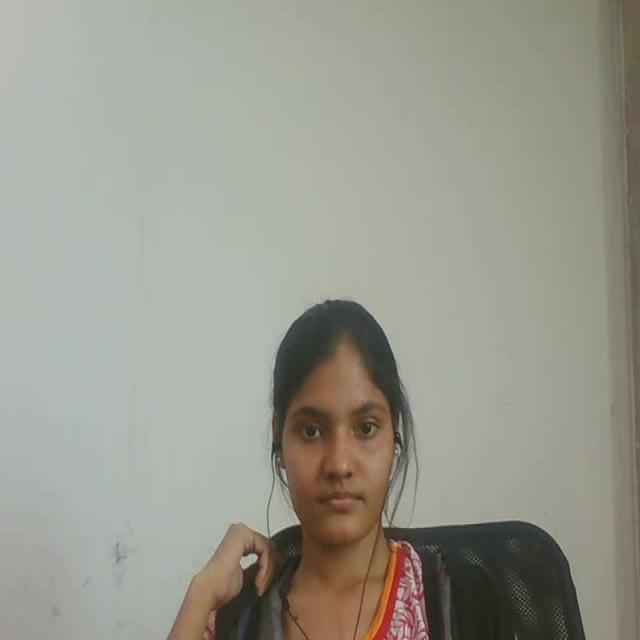Engaged: (252, 297, 426, 567)
